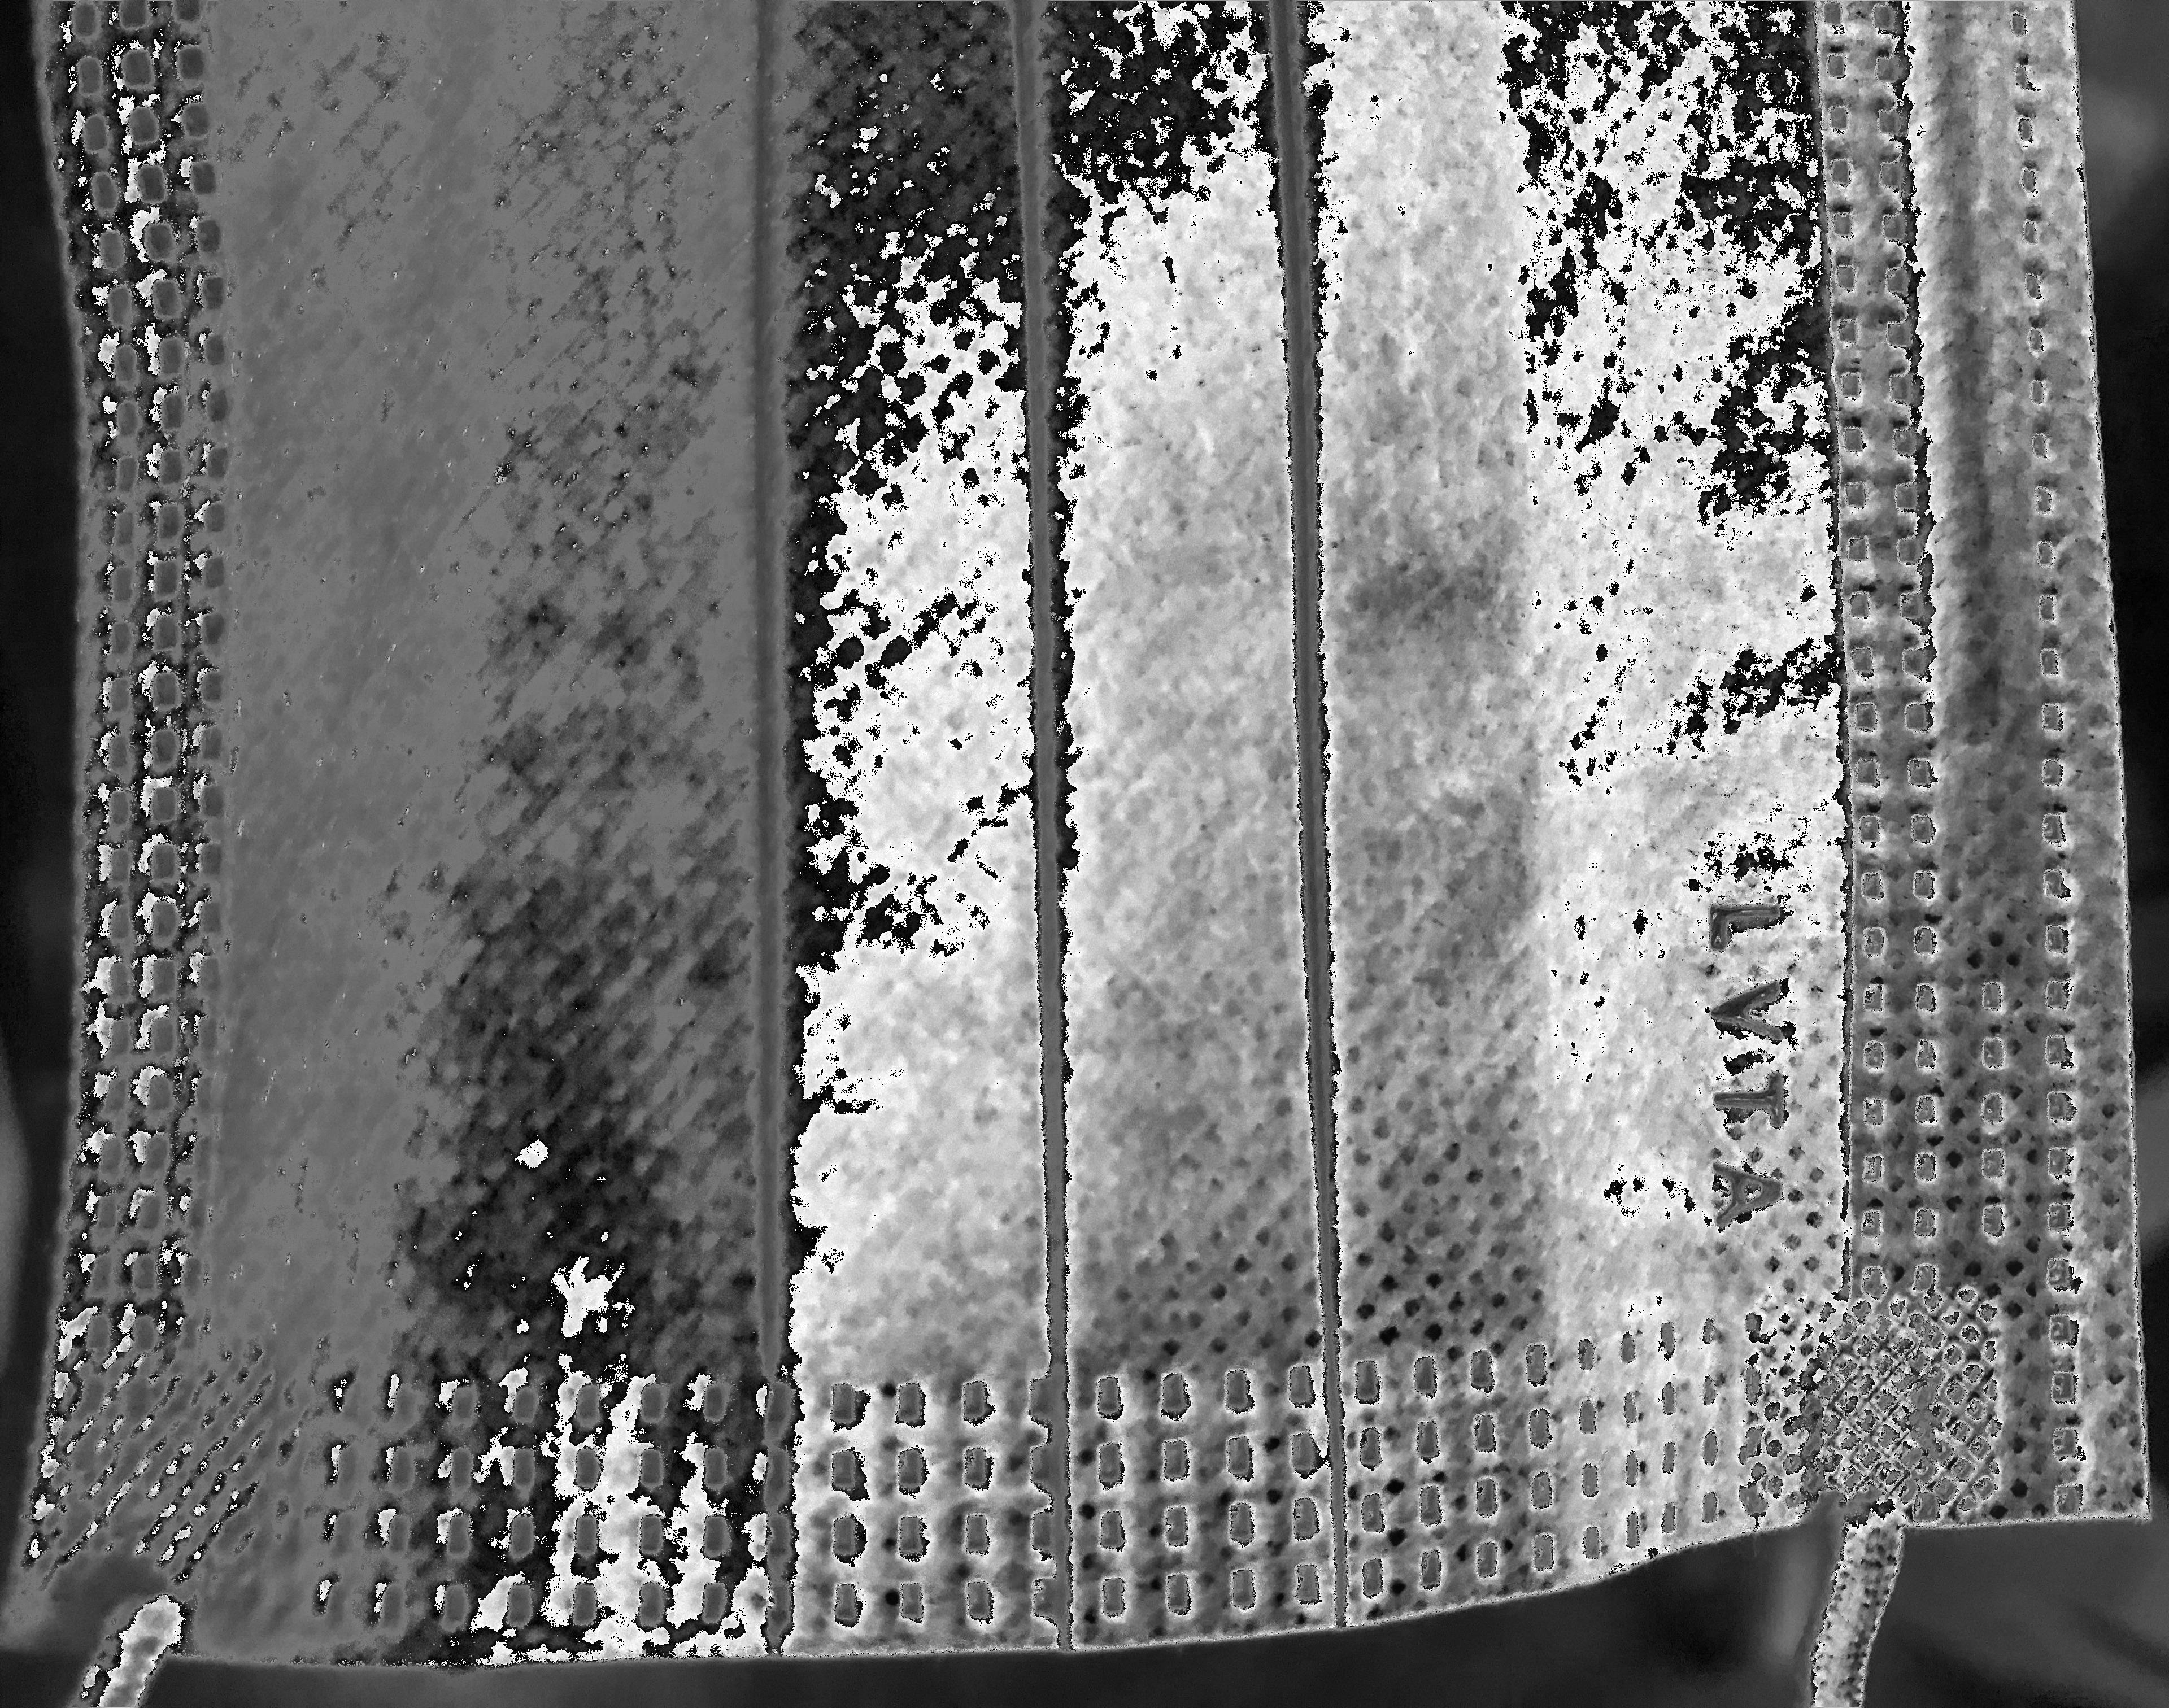High GSM: (1032, 58, 1345, 312), (835, 262, 1121, 498), (794, 1127, 1051, 1363), (815, 4, 1058, 180), (1305, 0, 1532, 180)
Undefined Area: (211, 0, 769, 1358)
